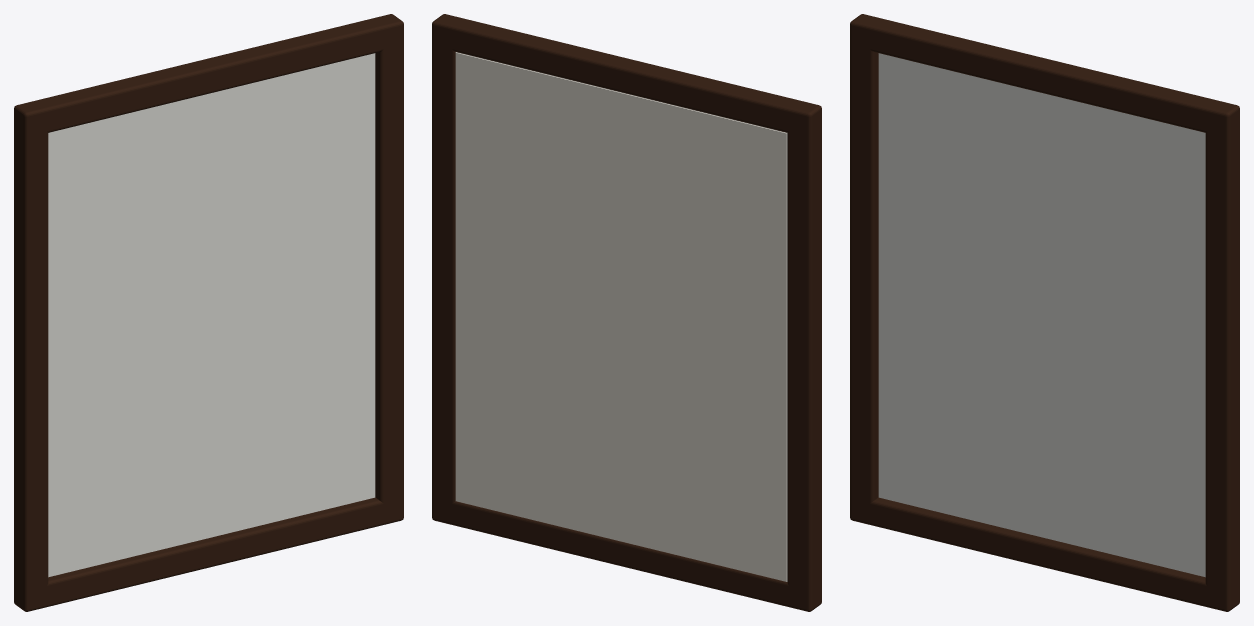
Rendered from modern_picture_frame.obj.
3 renders of one model, left to right at view 1: azimuth 30°, elevation 25°; view 2: azimuth 150°, elevation 25°; view 3: azimuth 330°, elevation 25°, orthographic.
Parts seen in each view (by area): view 1: mat, frame_left, frame_right, frame_top, frame_bottom; view 2: canvas, frame_left, frame_top, frame_right, frame_bottom, mat; view 3: mat, frame_right, frame_top, frame_left, frame_bottom.
Boxes of the visible parts, x1,y1,x2,y2 form: mat: (48,53,375,577); frame_left: (14,101,48,610); frame_right: (373,14,403,524); frame_top: (14,14,403,135); frame_bottom: (14,497,403,611); canvas: (455,52,786,581); frame_left: (787,101,821,611); frame_top: (432,14,821,135); frame_right: (432,14,460,524); frame_bottom: (432,498,821,611); mat: (456,52,787,581); mat: (878,53,1205,577); frame_right: (1205,101,1239,611); frame_top: (850,14,1239,135); frame_left: (850,14,878,524); frame_bottom: (850,497,1239,611).
Size of the model in its own units: 0.78 by 0.98 by 0.045.
